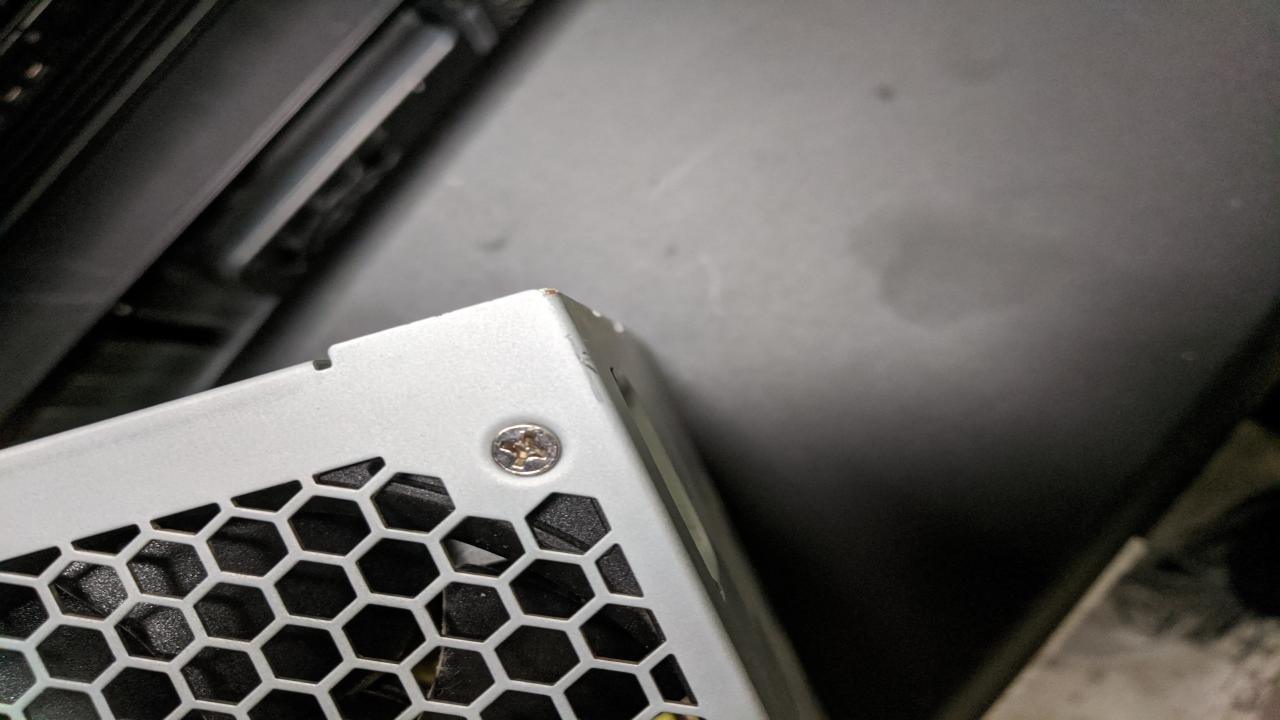CRS: (484, 416, 564, 477)
